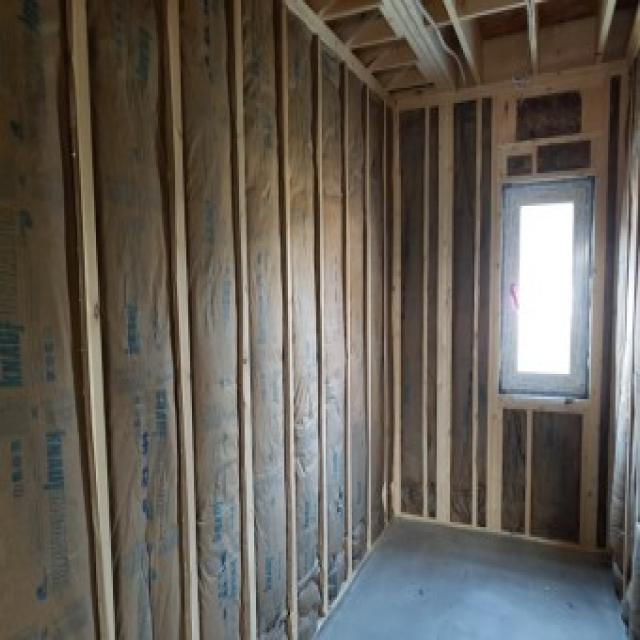stud: (0, 0, 393, 640), (395, 59, 629, 557), (293, 0, 640, 103)
